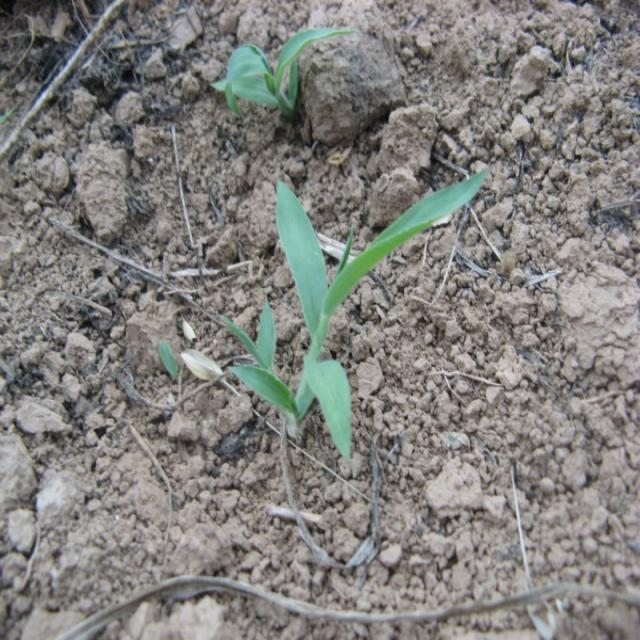bg: (230, 172, 484, 466)
